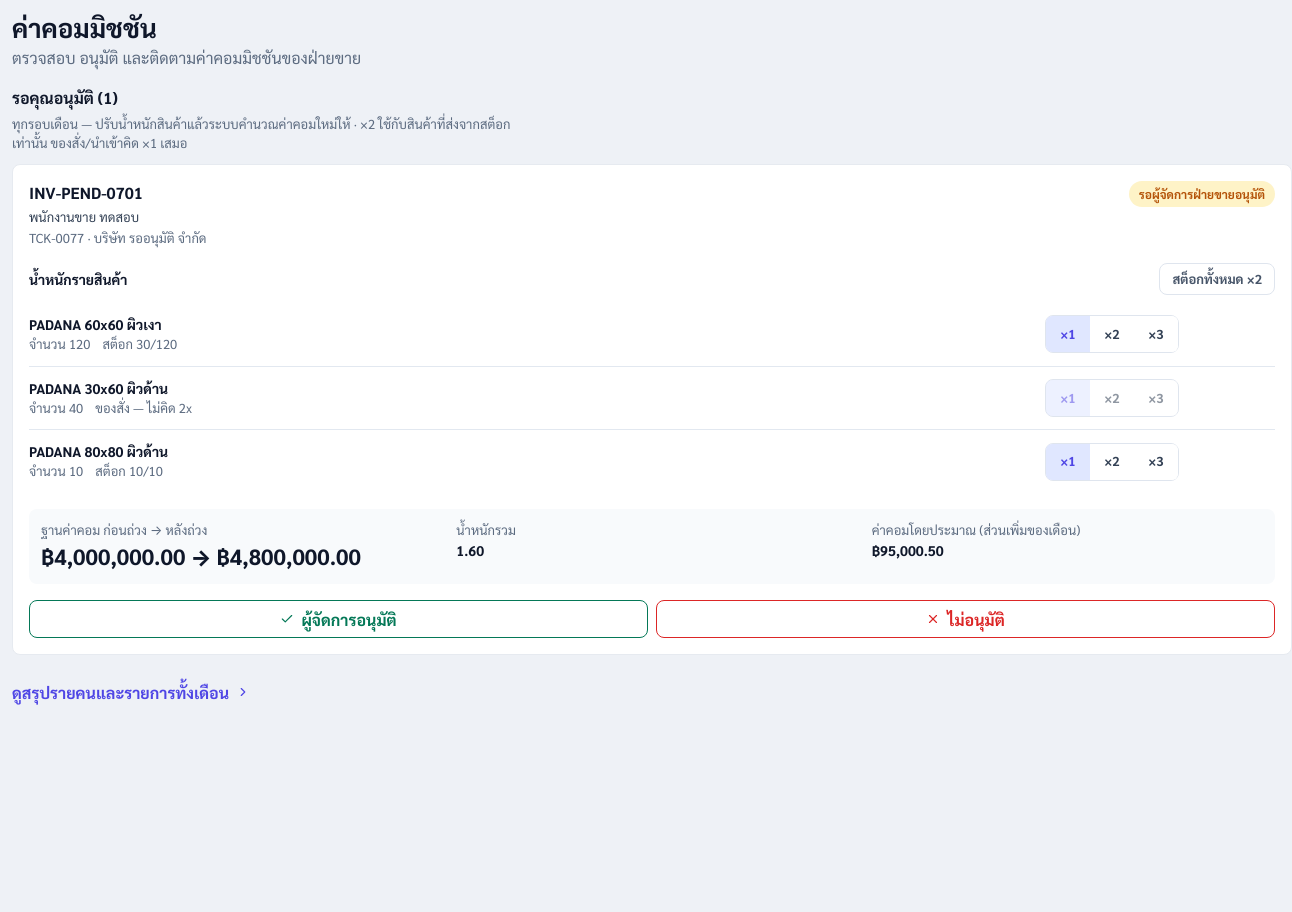
Test: weighting desk — ×1/×2/×3 segmented control per line (sales_manager) › a failed request reverts the segment and shows an inline error that names the line
Expected: the heading "INV-PEND-0701" is shown, [29, 182, 143, 203]
Click the radio button labelled "×2" in the row of "PADANA 60x60 ผิวเงา" at (1112, 334), box [1090, 316, 1134, 352]
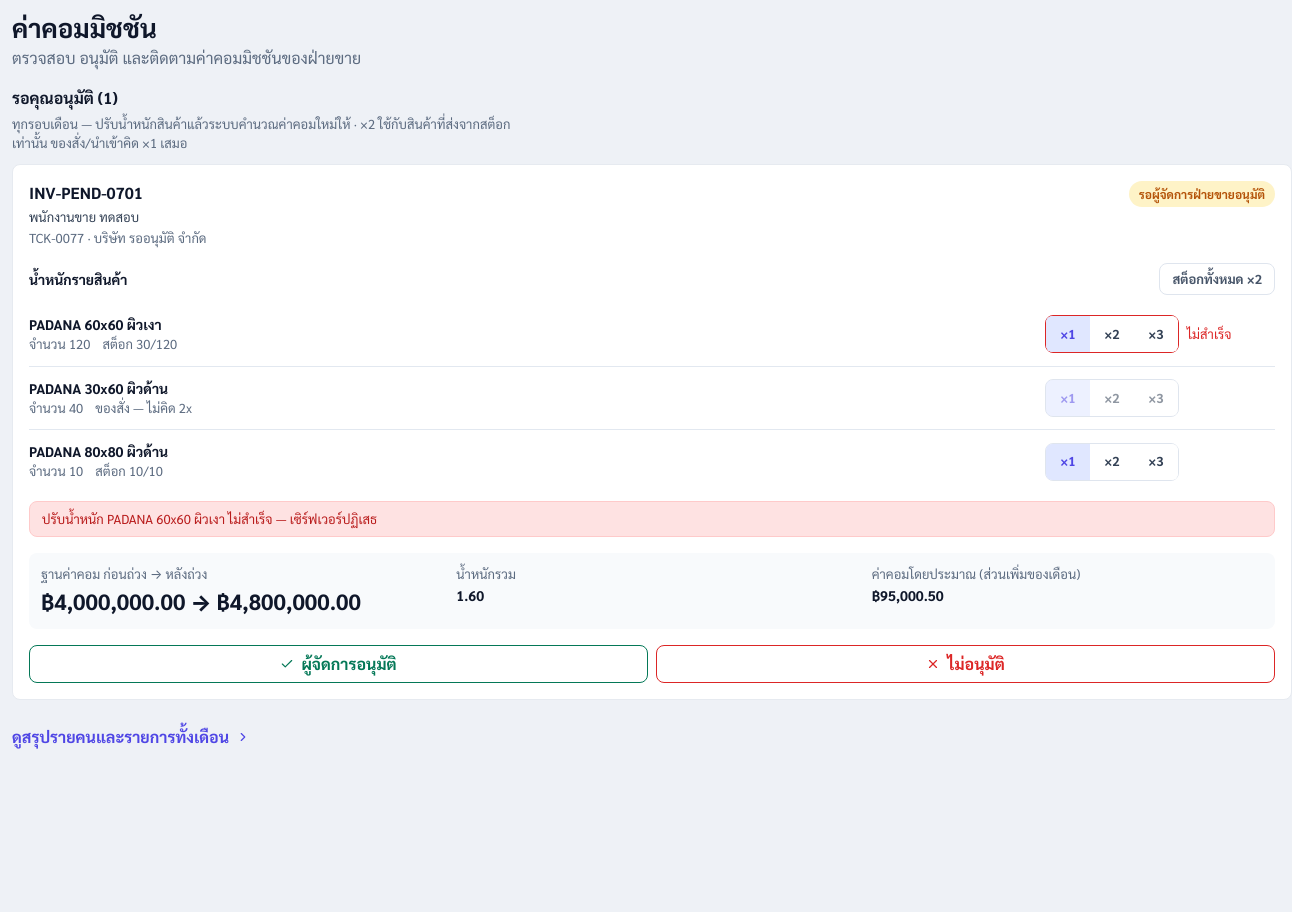
Expected: the element with test id "pending-entry-701" shows "฿4,800,000.00", [41, 587, 361, 615]
Now the message shows "PADANA 60x60 ผิวเงา", box [42, 510, 377, 527]
